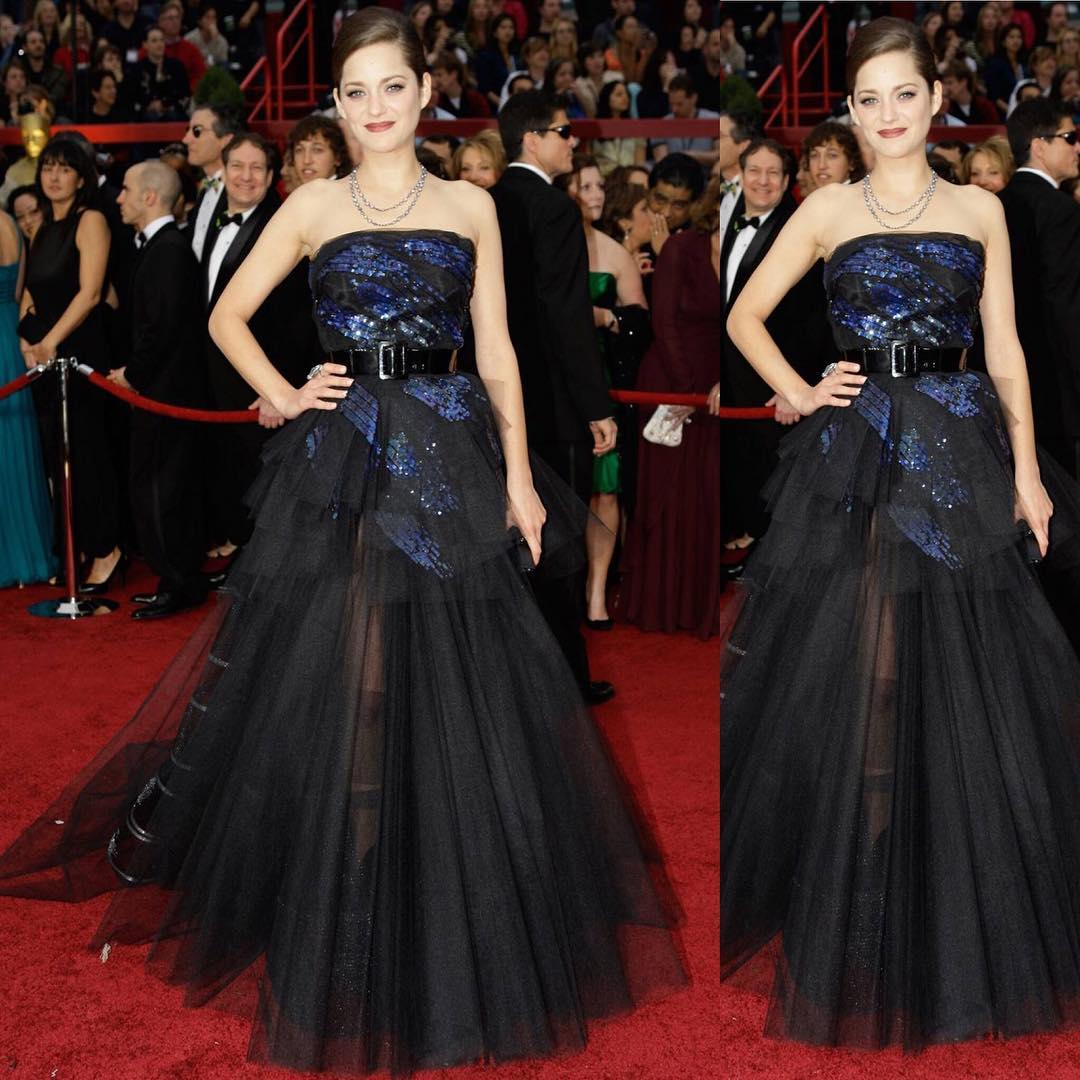hand: (288, 366, 345, 403)
